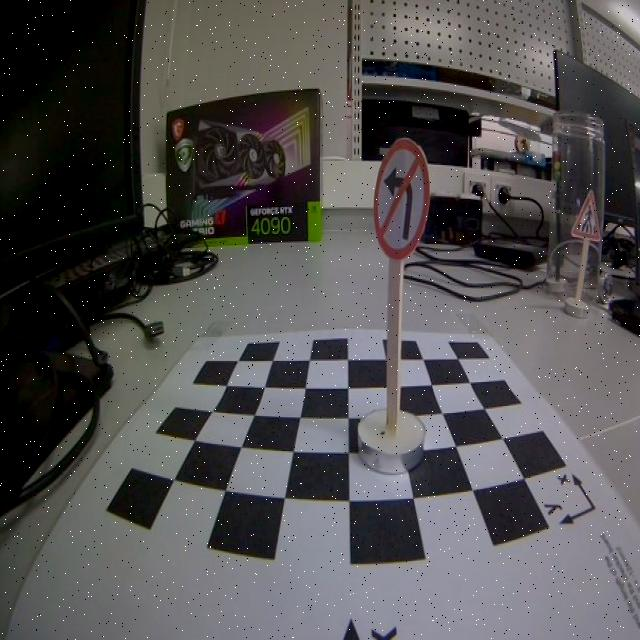Dilarang Belok Kiri: (372, 140, 430, 260)
